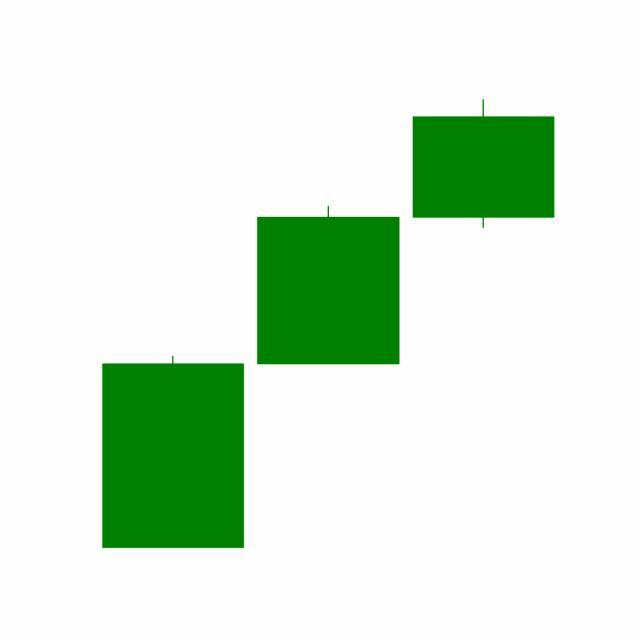Marubozu: (250, 205, 407, 367)
